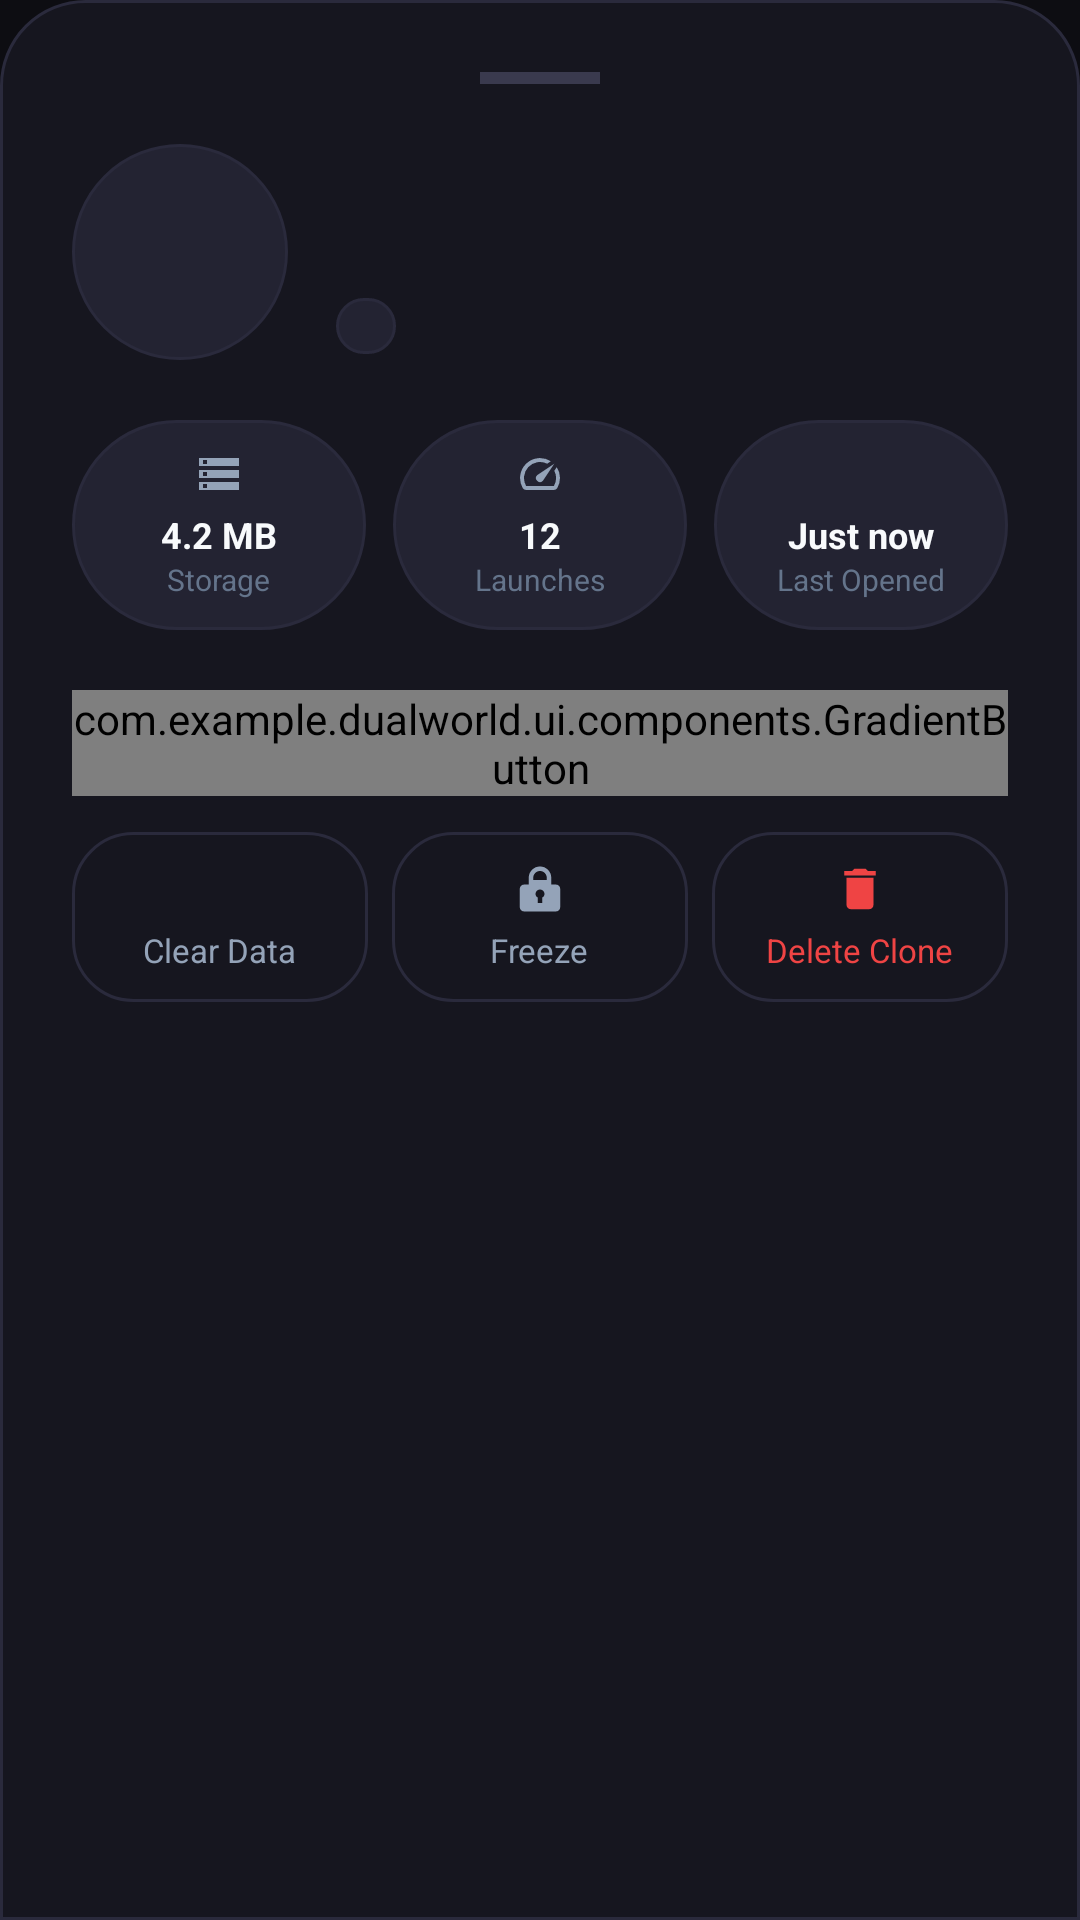

Named icons in this screenshot (1080px x 1920px) and their centers, (x,y):
speed: (540,474)
